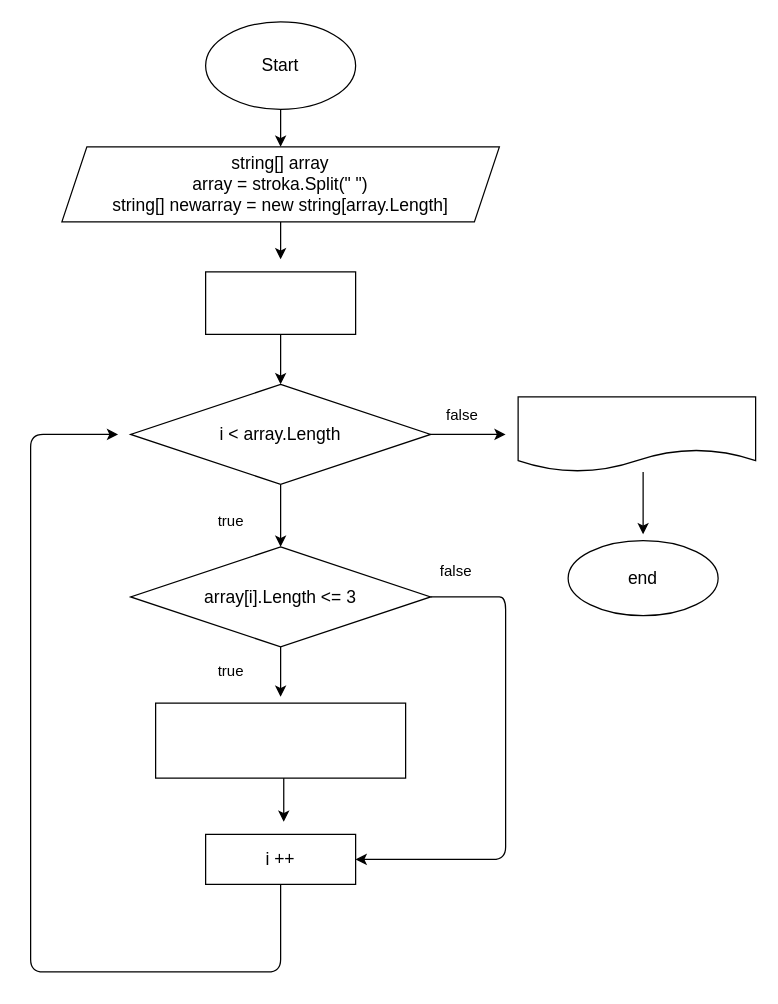
The diagram is 778 pixels wide and 1004 high, and some of its shapes have lost their labels. The box of each missing label's shape, as (x1, y1, x2, y2) in pixels:
count = 0 i = 0: (204, 271, 356, 334)
newarray[count] = array[i] count ++: (154, 702, 406, 778)
print newarray[count]: (517, 396, 756, 472)
